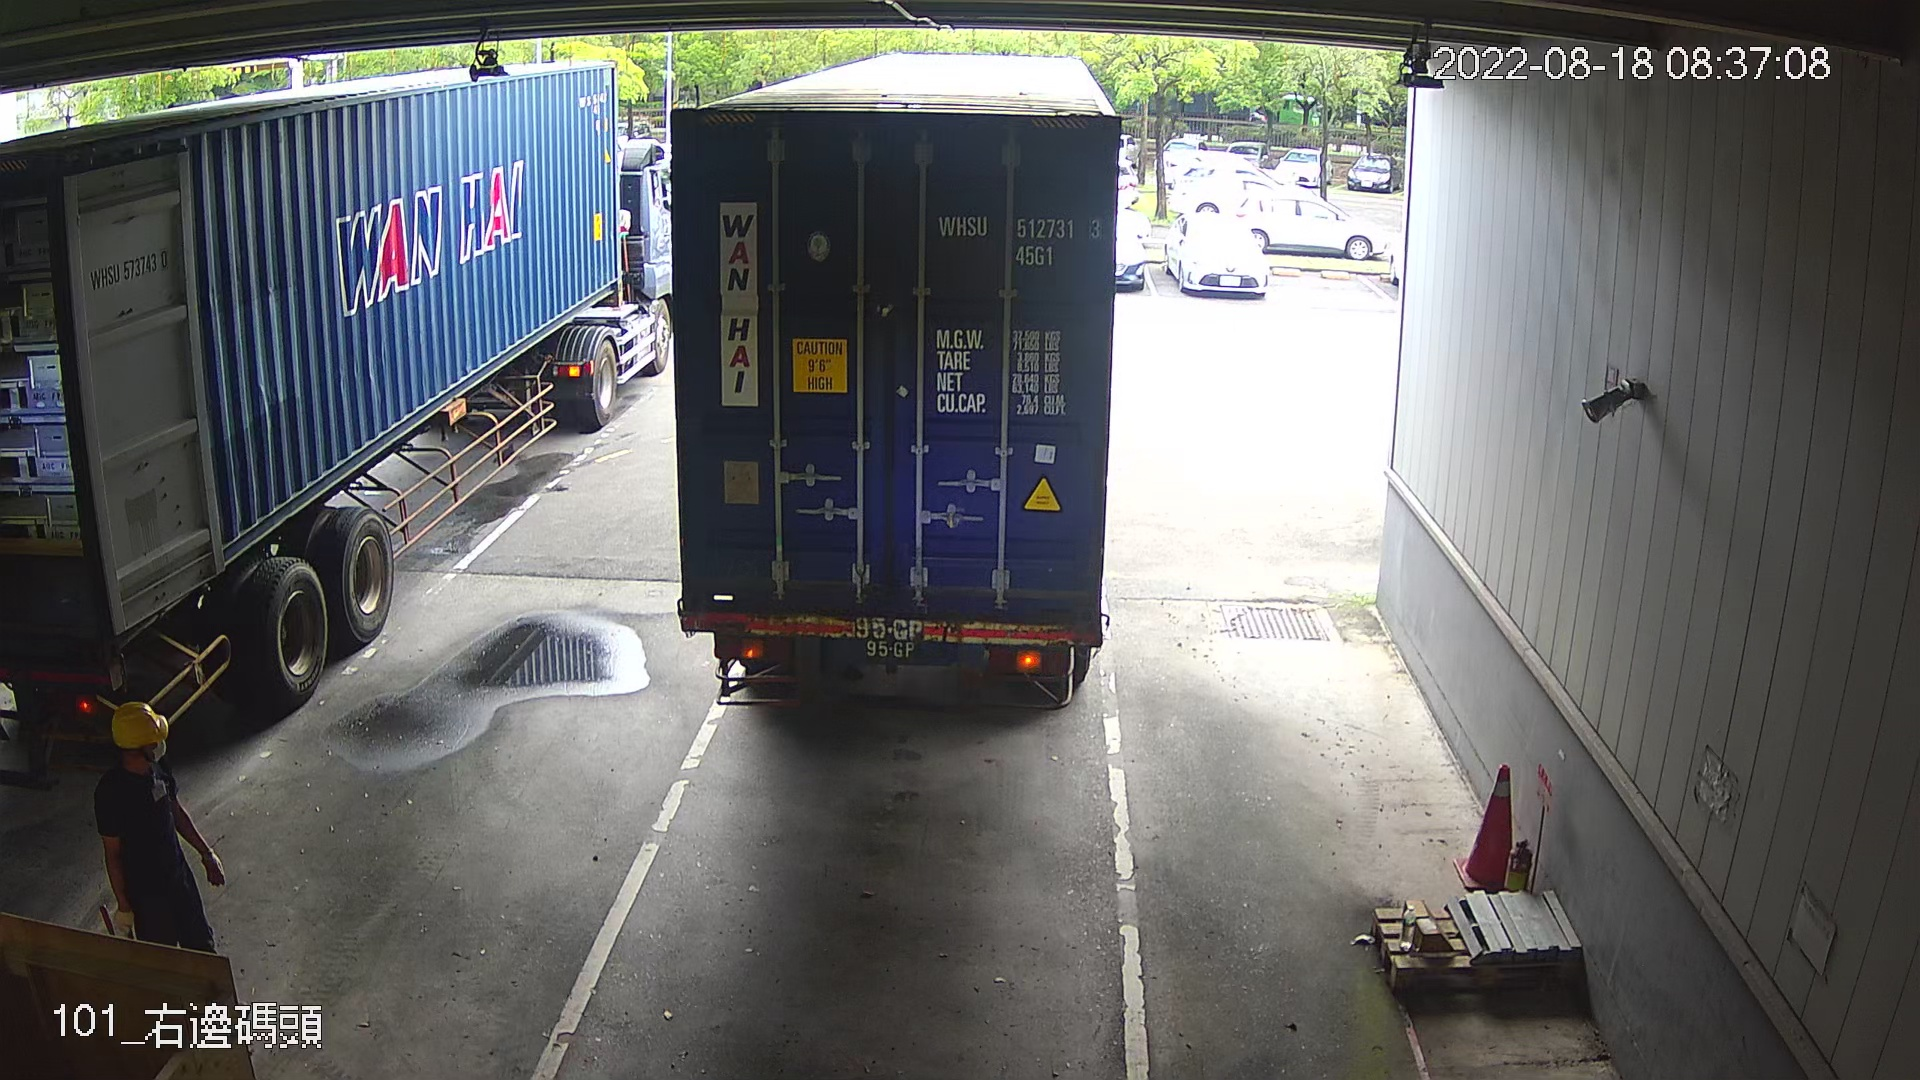container: (928, 204, 1109, 280)
